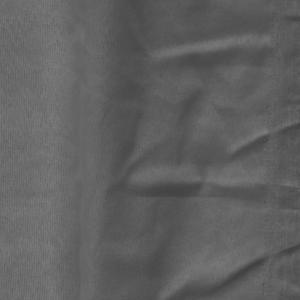Wrinkle: (69, 1, 300, 300)
